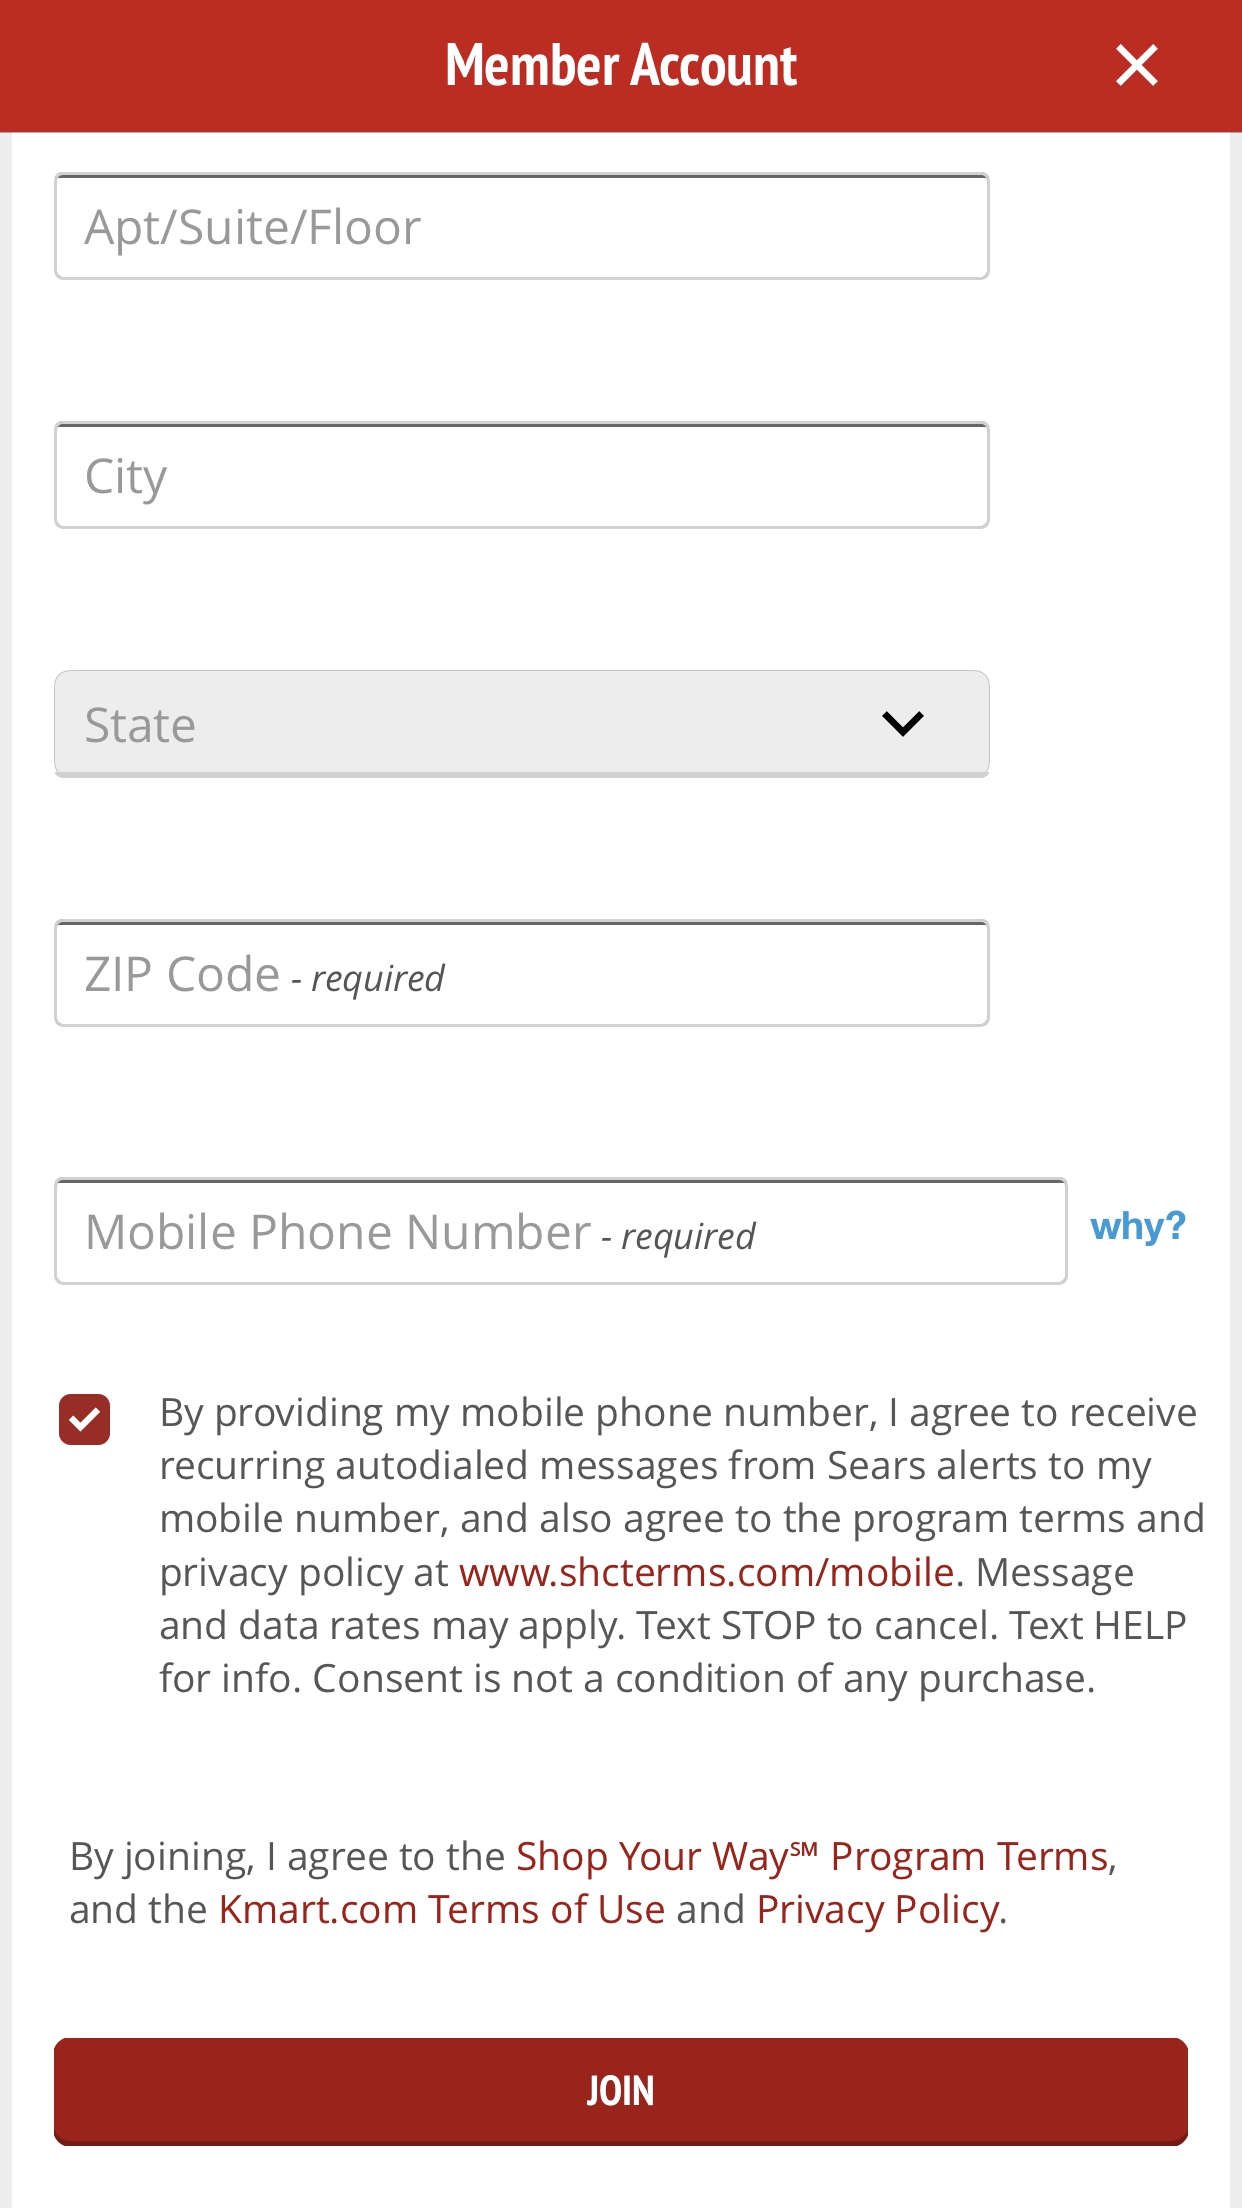Checkbox: (61, 1394, 112, 1447)
EditText: (55, 1175, 1069, 1286), (55, 917, 990, 1028), (55, 422, 990, 531), (55, 173, 990, 282)
Icon: (1115, 44, 1159, 88), (883, 711, 924, 737)
Text: (161, 1397, 1204, 1701), (70, 1839, 1116, 1934), (88, 1212, 757, 1259), (86, 952, 447, 1001), (83, 206, 422, 256), (447, 42, 798, 88), (86, 456, 168, 507), (1089, 1210, 1186, 1248)
TextButton: (55, 2038, 1189, 2147), (55, 670, 990, 779)
